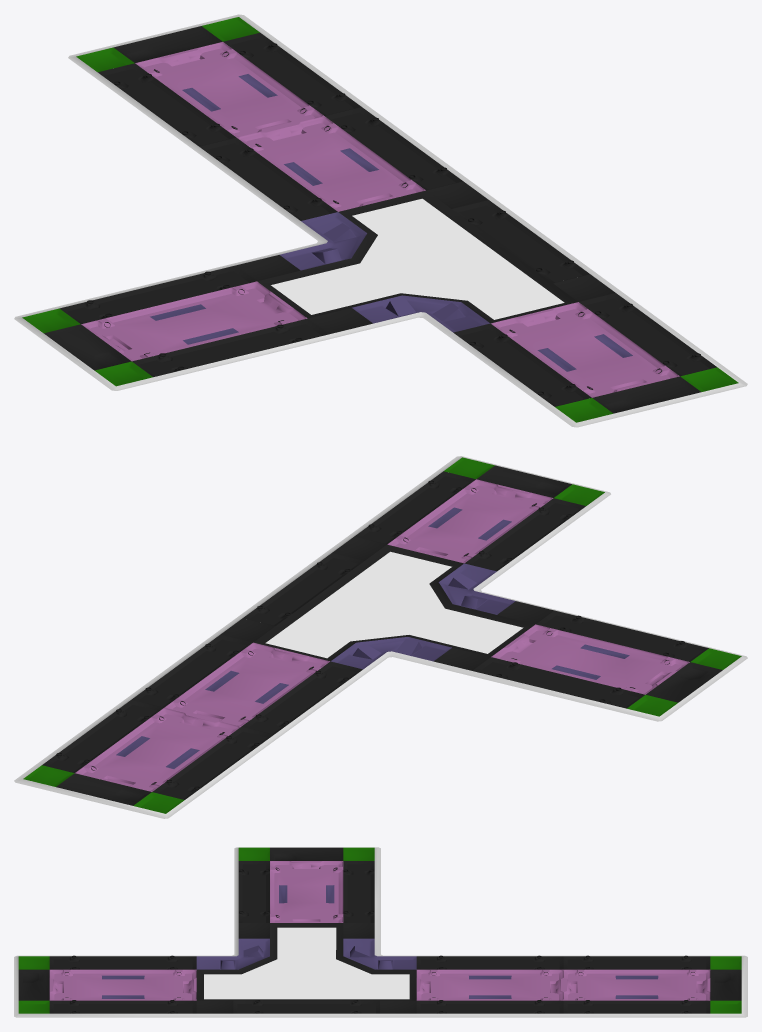
The model's file is Building_A_Room_E_Ceiling_A.fbx.
The picture shows the model from 3 angles, top to bottom: view 1: azimuth 30°, elevation 25°; view 2: azimuth 150°, elevation 25°; view 3: azimuth 270°, elevation 25°; orthographic projection. The views are drawn at different scales.
Parts seen in each view (by area): view 1: Geom_Building_A_Room_E_Ceiling_A_LOD00; view 2: Geom_Building_A_Room_E_Ceiling_A_LOD00; view 3: Geom_Building_A_Room_E_Ceiling_A_LOD00.
Boxes of the visible parts, x1,y1,x2,y2 form: Geom_Building_A_Room_E_Ceiling_A_LOD00: [14, 14, 747, 427]; Geom_Building_A_Room_E_Ceiling_A_LOD00: [14, 456, 747, 818]; Geom_Building_A_Room_E_Ceiling_A_LOD00: [14, 847, 747, 1017].
Size of what is drawn, in the model's own units: 2200 by 48.81 by 4000.
